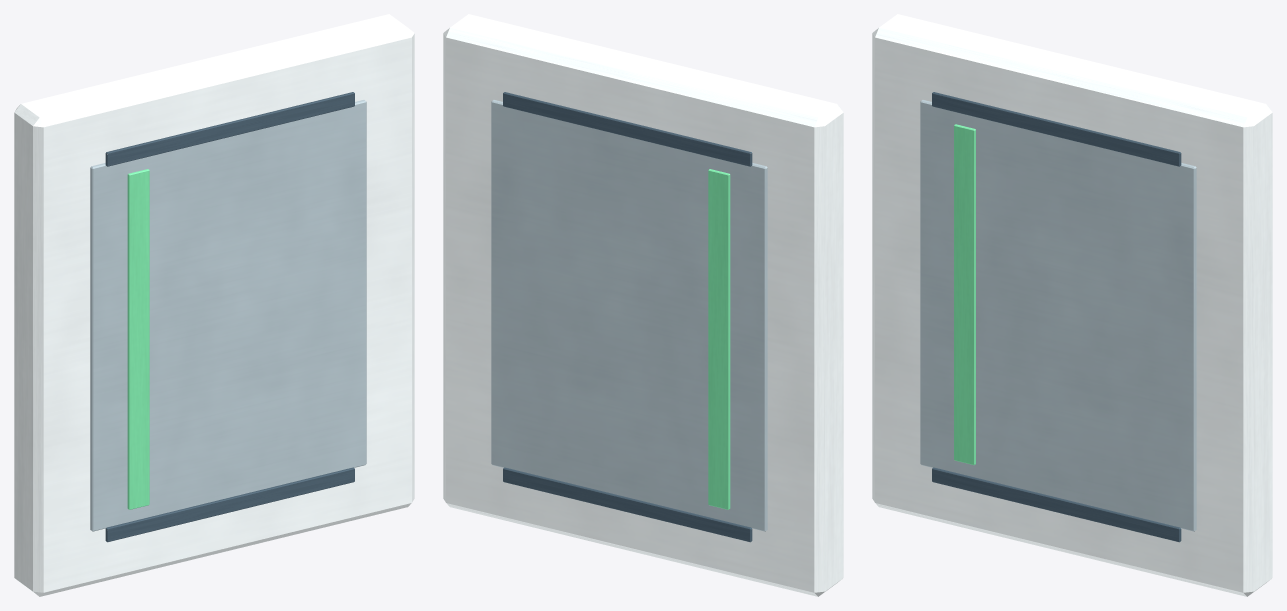
The model's file is wall-panel-2m.glb.
3 renders of one model, left to right at view 1: azimuth 30°, elevation 25°; view 2: azimuth 150°, elevation 25°; view 3: azimuth 330°, elevation 25°, orthographic.
Parts seen in each view (by area): view 1: wall-panel-2m; view 2: wall-panel-2m; view 3: wall-panel-2m.
Boxes of the visible parts, bbox=[...] form: wall-panel-2m: bbox=[14, 14, 414, 596]; wall-panel-2m: bbox=[443, 14, 843, 596]; wall-panel-2m: bbox=[872, 14, 1272, 596].
Bounding box in the file's own units: 2 × 2.4 × 0.304.
Materials: 1 (1 with a texture image).
